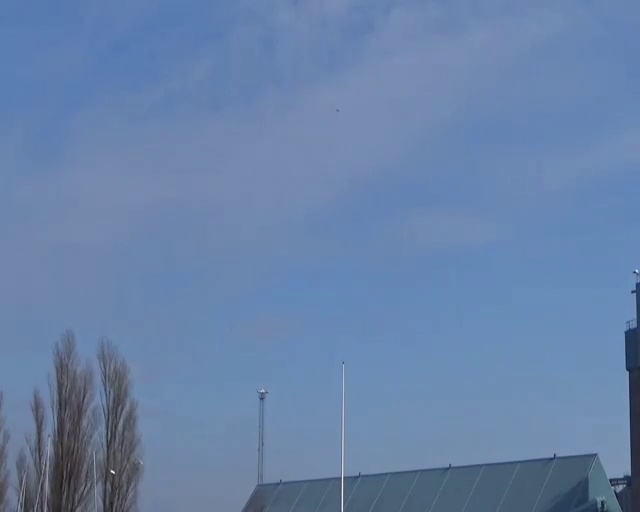BIRD: (273, 214, 284, 228)
